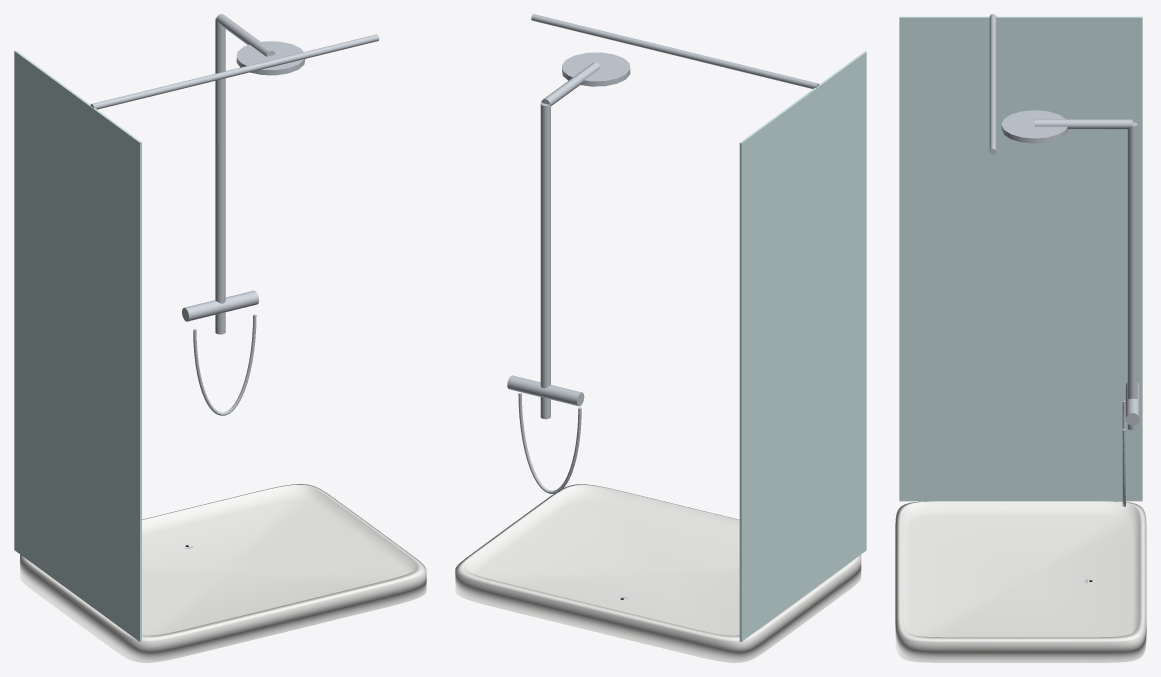
File: Zuhanyfal_walk_in_120.obj
3 renders of one model, left to right at view 1: azimuth 30°, elevation 25°; view 2: azimuth 150°, elevation 25°; view 3: azimuth 270°, elevation 25°, orthographic. The views are drawn at different scales.
Size of the model in its own units: 1.2 by 2.01 by 0.9.
